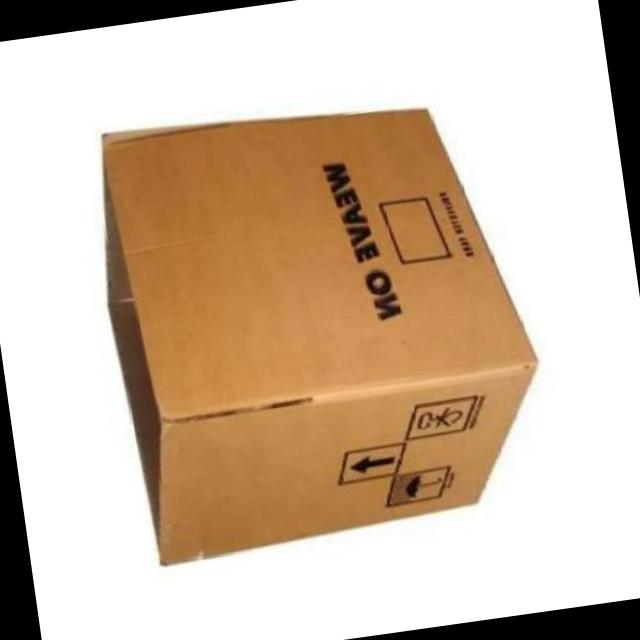box: (76, 74, 564, 576)
